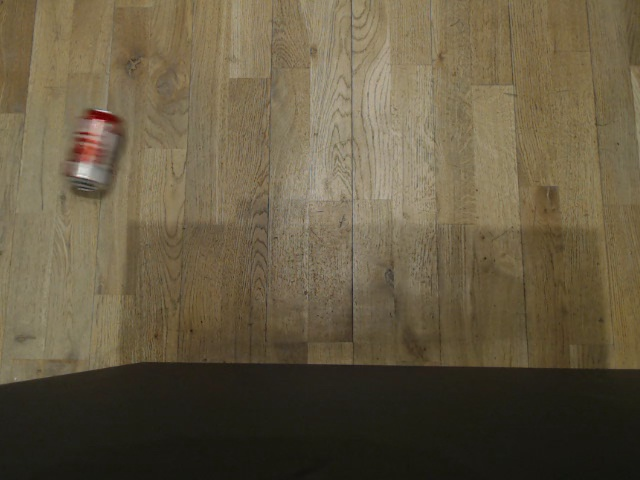beer: (243, 59, 332, 143), (269, 289, 363, 364), (132, 287, 224, 355), (446, 325, 548, 368)
cola: (90, 0, 172, 35)
